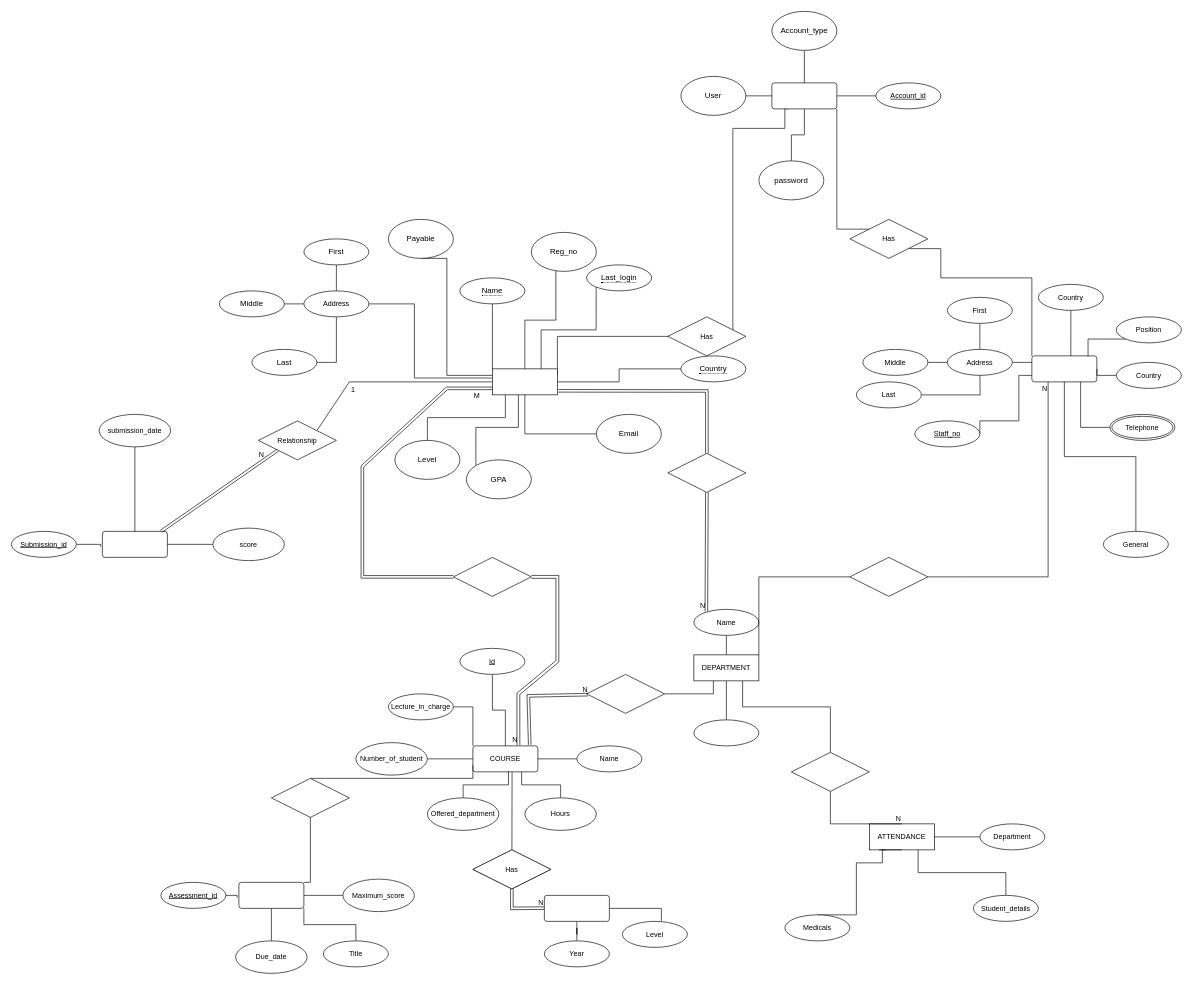
Image size: 1193x985. Some labels were removed from this diagram. Each missing label, with the centre of its shape:
Account: the point at 804,95
Assessment: the point at 271,895
Belong: the point at 706,472
Include: the point at 310,797
Learns: the point at 492,576
Location: the point at 726,732
Maintain: the point at 830,771
Offers: the point at 625,693
PAST_PAPER: the point at 576,908
STAFF: the point at 1064,368
STUDENT: the point at 524,381
Submission: the point at 134,544
Works_in: the point at 888,576
